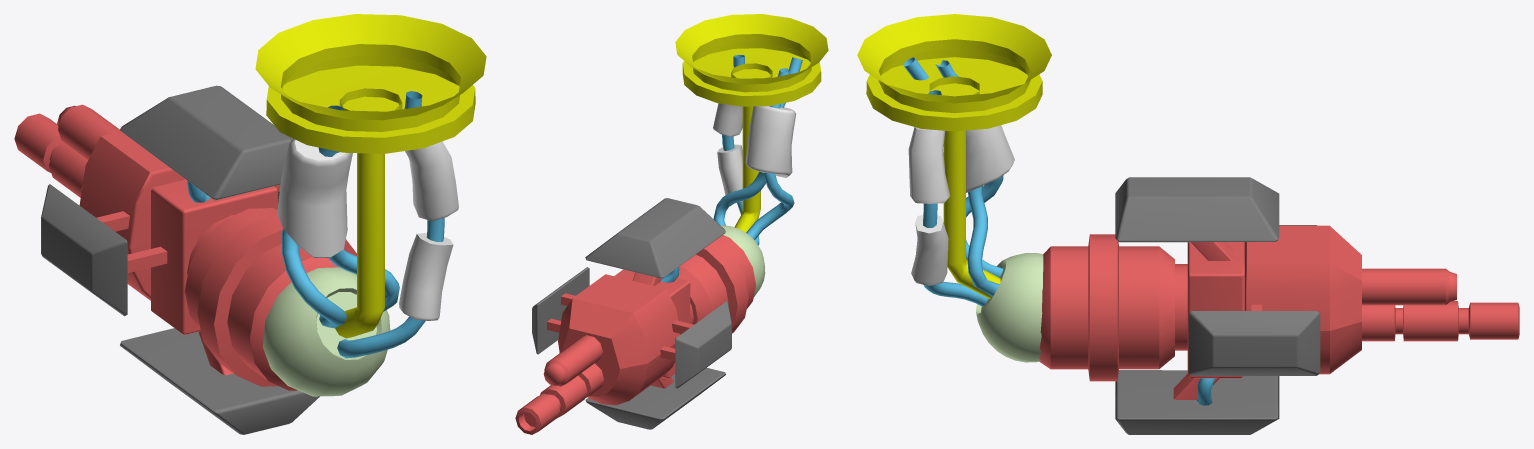
Rendered from S2_Turret_01.fbx.
3 renders of one model, left to right at view 1: azimuth 30°, elevation 25°; view 2: azimuth 150°, elevation 25°; view 3: azimuth 270°, elevation 25°, orthographic. The views are drawn at different scales.
Visible parts, largest first — view 1: Turret_Mounting_01, Turret_Body_01, Turret_Pipe_01; view 2: Turret_Body_01, Turret_Mounting_01, Turret_Pipe_01; view 3: Turret_Body_01, Turret_Mounting_01, Turret_Pipe_01.
Part boxes in pixels (<box>): Turret_Mounting_01: <box>255,14,486,396</box>; Turret_Body_01: <box>41,85,356,434</box>; Turret_Pipe_01: <box>14,113,88,197</box>; Turret_Body_01: <box>532,198,755,429</box>; Turret_Mounting_01: <box>675,14,828,297</box>; Turret_Pipe_01: <box>515,363,603,434</box>; Turret_Body_01: <box>1039,177,1456,434</box>; Turret_Mounting_01: <box>857,14,1051,362</box>; Turret_Pipe_01: <box>1362,301,1519,341</box>.
Size of the model in its own units: 33.09 by 55.75 by 90.37.
